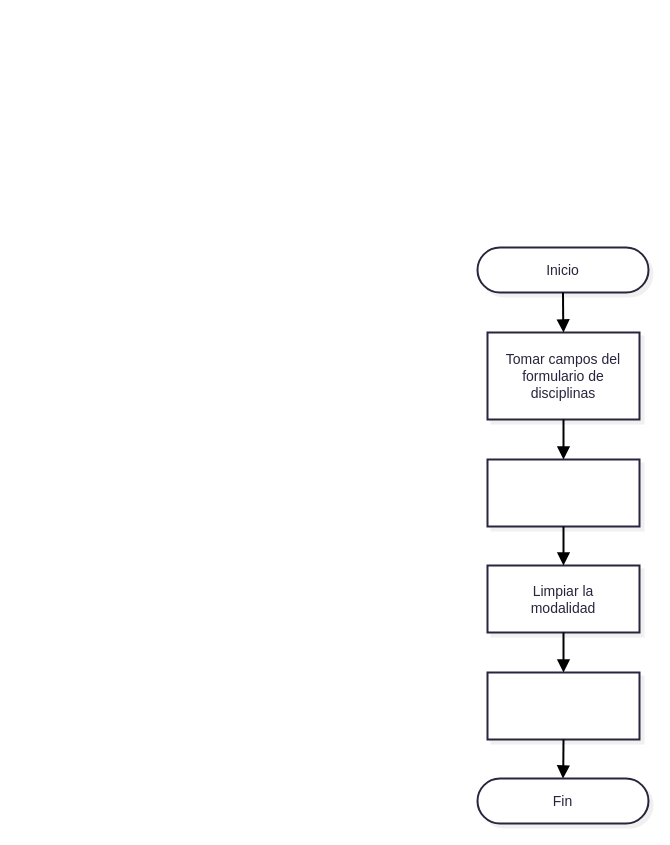
This 670x845 diagram has some shape labels left out. The centre of each missing label's shape, as x and y in pixels:
"Limpiar el nombre" goes at (x=565, y=494).
"Vaciar el formulario" goes at (x=565, y=707).
